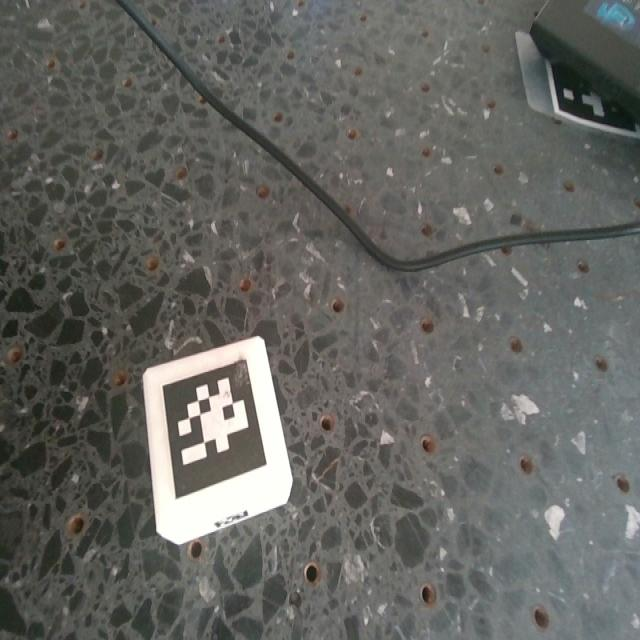Cube: (142, 337, 295, 548)
